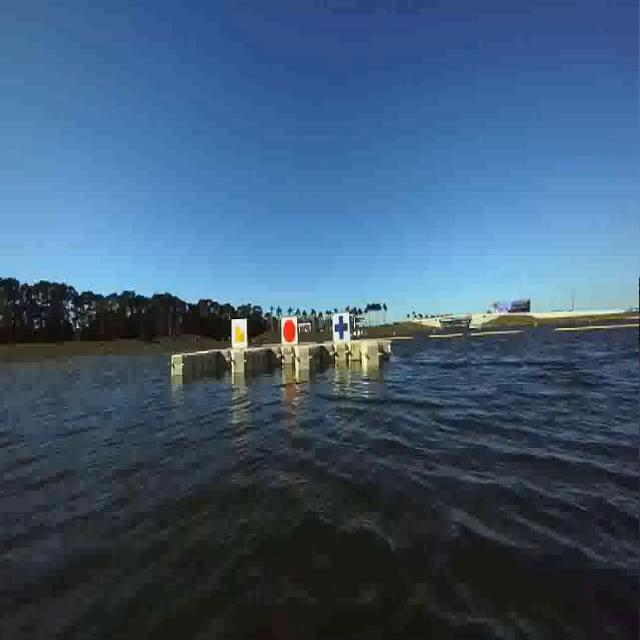blue-cross: (330, 306, 353, 348)
red-dot: (278, 312, 302, 350)
yellow-duck: (236, 327, 246, 343)
